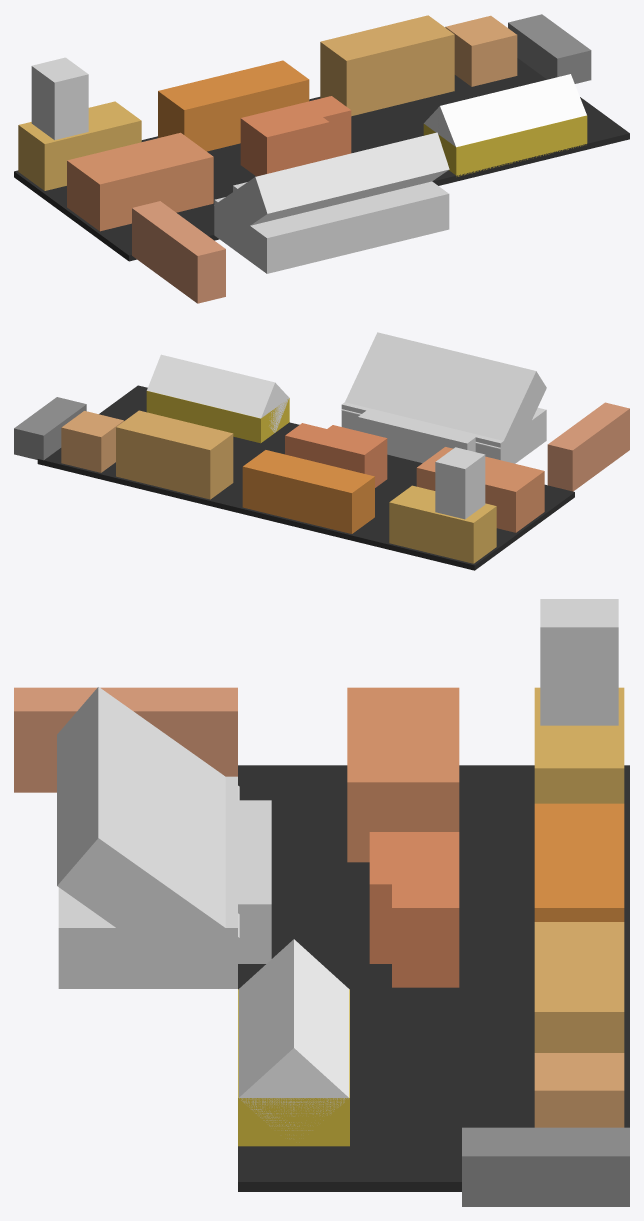
The model's file is lansdowne.glb.
3 renders of one model, top to bottom at view 1: azimuth 30°, elevation 25°; view 2: azimuth 150°, elevation 25°; view 3: azimuth 270°, elevation 25°, orthographic. The views are drawn at different scales.
Parts seen in each view (by area): view 1: tdPlace2, floor, cineplex, tdPlace3, wholeFoods, winners, aberdeen2, craft, sportingLife1, local1, aberdeen1, sportingLife2 (+3 smaller); view 2: tdPlace3, floor, cineplex, winners, sportingLife1, aberdeen2, craft, wholeFoods, aberdeen1, tdPlace, sportingLife2, local1 (+4 smaller); view 3: floor, tdPlace3, wholeFoods, aberdeen2, unknown, tdPlace2, craft, cineplex, winners, sportingLife2, sportingLife1, local2 (+4 smaller).
Part boxes in pixels (<box>): tdPlace2: <box>214,181,449,273</box>; floor: <box>14,58,629,261</box>; cineplex: <box>320,15,454,116</box>; tdPlace3: <box>214,132,449,225</box>; wholeFoods: <box>67,132,213,231</box>; winners: <box>158,60,309,151</box>; aberdeen2: <box>424,74,586,147</box>; craft: <box>132,201,225,303</box>; sportingLife1: <box>18,101,141,190</box>; local1: <box>240,103,329,176</box>; aberdeen1: <box>423,115,587,176</box>; sportingLife2: <box>31,57,88,140</box>; tdPlace3: <box>341,332,546,462</box>; floor: <box>37,385,574,570</box>; cineplex: <box>116,410,233,499</box>; winners: <box>242,450,374,533</box>; sportingLife1: <box>389,485,496,563</box>; aberdeen2: <box>147,354,288,432</box>; craft: <box>547,402,629,491</box>; wholeFoods: <box>416,447,544,532</box>; aberdeen1: <box>146,391,289,443</box>; tdPlace: <box>358,410,475,463</box>; sportingLife2: <box>435,447,485,519</box>; local1: <box>310,425,387,487</box>; floor: <box>238,765,629,1191</box>; tdPlace3: <box>57,687,239,969</box>; wholeFoods: <box>347,687,459,862</box>; aberdeen2: <box>238,939,349,1138</box>; unknown: <box>462,1127,629,1206</box>; tdPlace2: <box>58,776,237,988</box>; craft: <box>14,687,237,792</box>; cineplex: <box>534,922,624,1052</box>; winners: <box>534,803,624,921</box>; sportingLife2: <box>540,599,618,725</box>; sportingLife1: <box>534,687,624,803</box>; local2: <box>392,884,459,987</box>.
Size of the model in its own units: 186 by 37.09 by 110.
